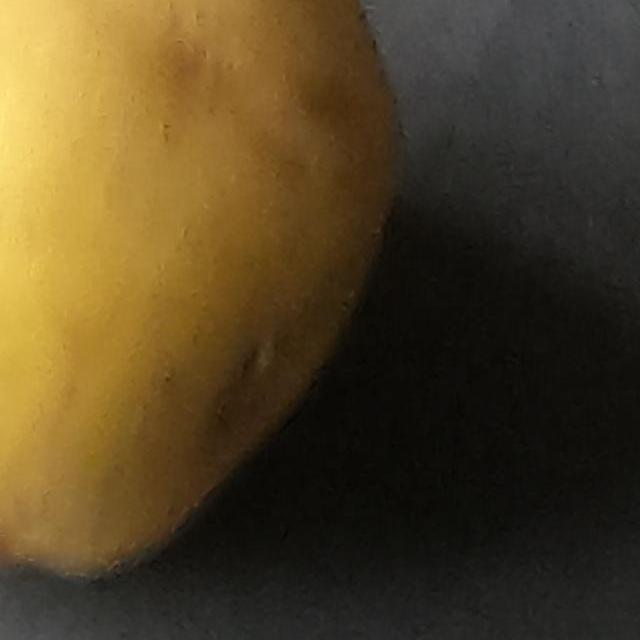potato: (0, 0, 577, 640)
